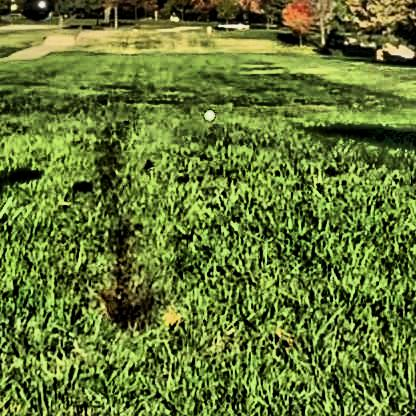golfball: (200, 105, 214, 119)
